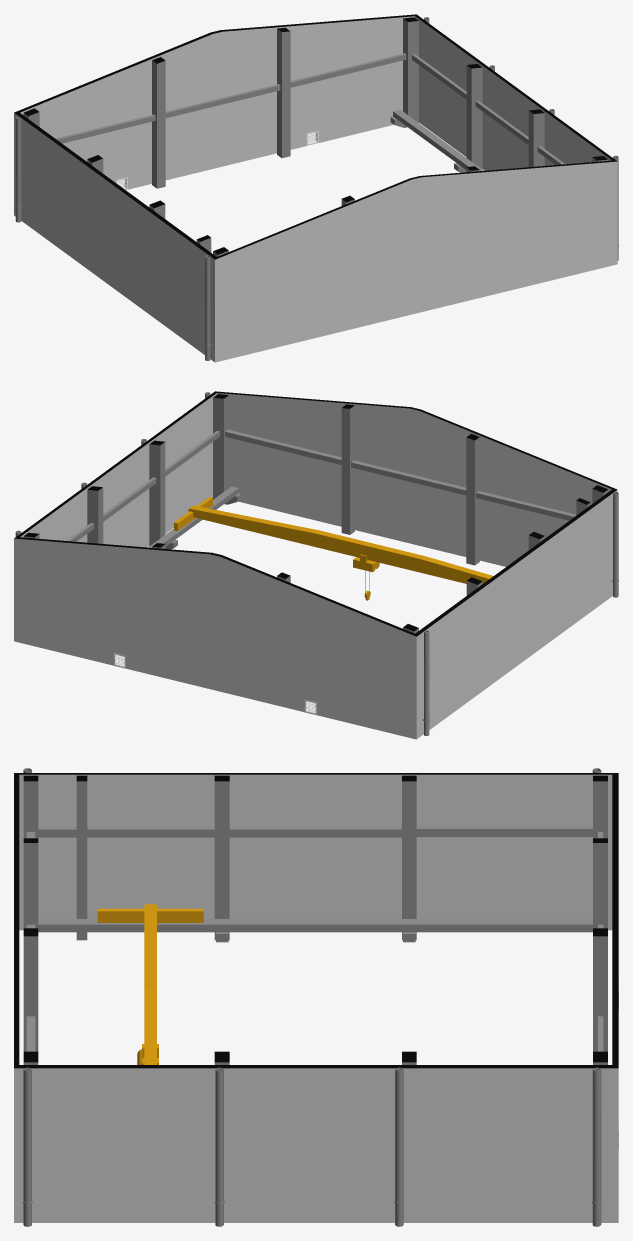
Rendered from soulbrain_T2-14-1F-2.glb.
3 views of the same model, one above another, from view 1: azimuth 30°, elevation 25°; view 2: azimuth 150°, elevation 25°; view 3: azimuth 270°, elevation 25° (orthographic). The views are drawn at different scales.
Visible parts, largest first — view 1: T2-14-1F-2; view 2: T2-14-1F-2, Rectangle1333; view 3: T2-14-1F-2, Rectangle1333.
Part boxes in pixels (<box>): T2-14-1F-2: <box>14,14,618,362</box>; T2-14-1F-2: <box>14,391,618,739</box>; Rectangle1333: <box>174,497,493,600</box>; T2-14-1F-2: <box>14,768,618,1226</box>; Rectangle1333: <box>97,904,203,1064</box>.
Bounding box in the file's own units: 16.9 × 6.29 × 14.23.
